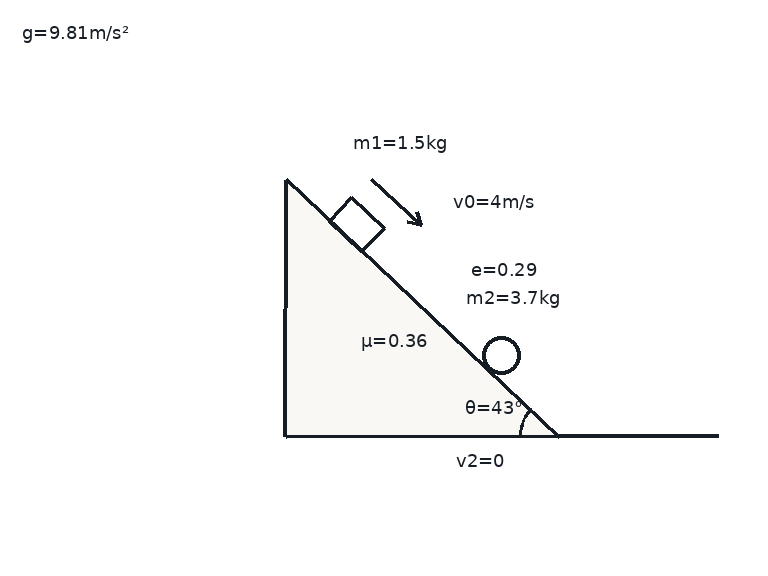ball: (480, 334, 522, 376)
block: (327, 195, 385, 253)
ramp: (283, 178, 562, 438)
